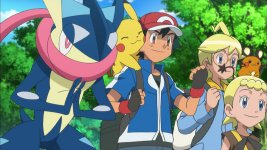greninja: (1, 1, 125, 150)
pikachu: (106, 2, 147, 83)
